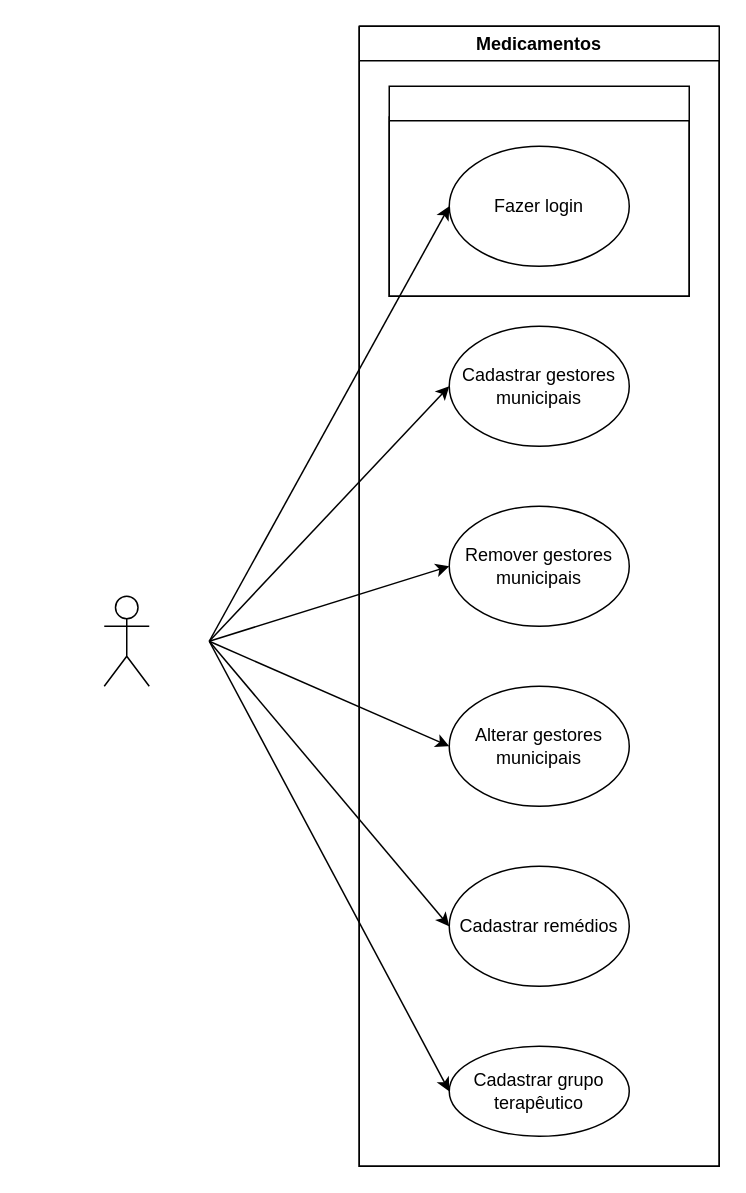
Some shapes in this 746 by 1193 pixel diagram are drawn without their labels. Each missing label, with the centre of its shape:
administrador do sistema: (x=126, y=640)
gov.br: (x=538, y=190)
